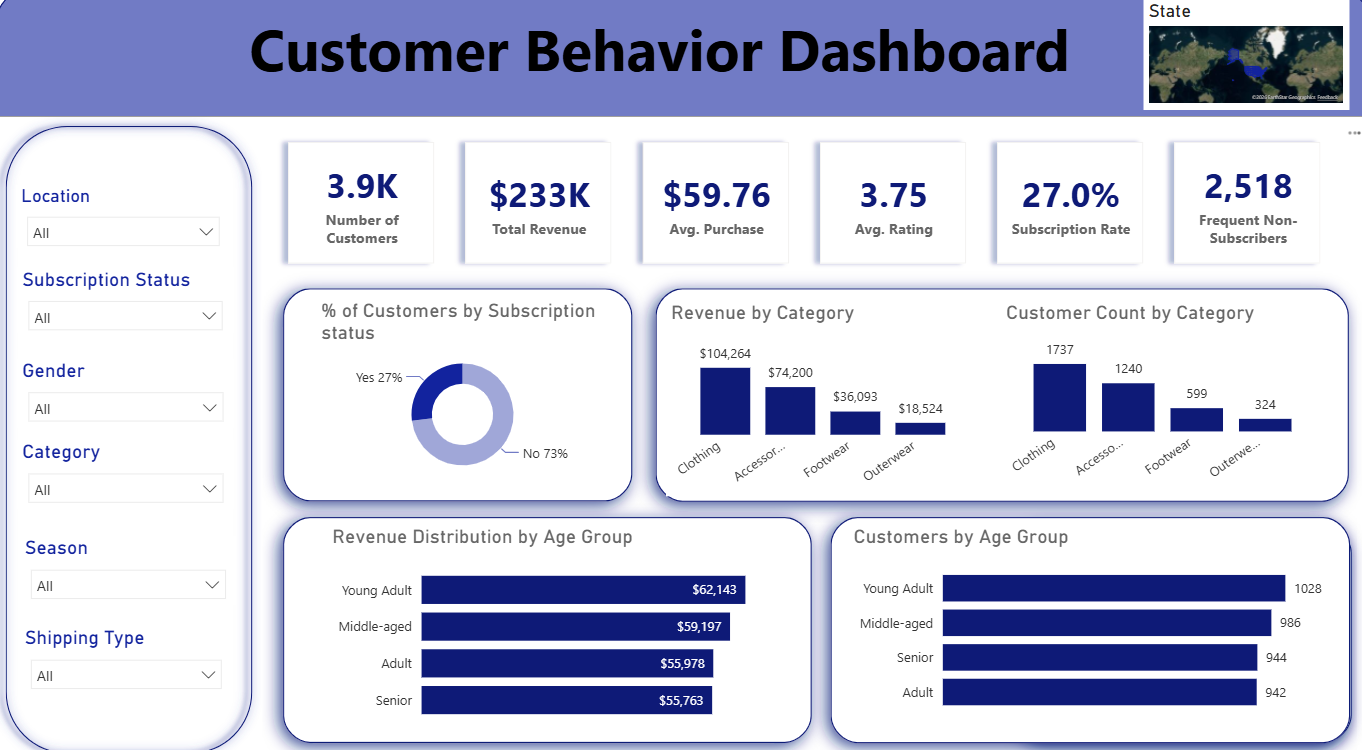

This screenshot's page, from the dashboard's own definition file:
{"tool":"powerbi","page":{"name":"Page 1","canvas":[1280,720],"ordinal":0},"visuals":[{"type":"cardVisual","fields":{"Data":["Query1.Number of Customers","Query1.Average Purchase Amount","Query1.Average Review Rating"]},"box":[276.8,117.3,1002.5,179.6],"z":0},{"type":"shape","box":[0,0,1280,118.2],"z":1000},{"type":"textbox","box":[204,12.4,828.5,89.6],"z":2000},{"type":"shape","box":[278.6,258.4,331.7,236.4],"z":3000},{"type":"donutChart","title":"% of Customers by Subscription status","fields":{"Category":["Query1.subscription_status"],"Y":["Sum(Query1.customer_id)"]},"box":[307.9,289.6,273.1,174.1],"z":4000},{"type":"shape","box":[593.8,258.4,350.1,238.3],"z":5000},{"type":"shape","box":[931.1,258.4,348.2,240.1],"z":6000},{"type":"shape","box":[0,117.3,278.6,603],"z":7000},{"type":"clusteredColumnChart","title":"Revenue by Category","fields":{"Y":["Sum(Query1.purchase_amount)"],"Category":["Query1.category"]},"box":[623.1,289.6,291.4,181.4],"z":8000},{"type":"clusteredColumnChart","title":"Customer Count by Category","fields":{"Category":["Query1.category"],"Y":["Query1.Number of Customers"]},"box":[964,289.6,287.7,181.4],"z":9000},{"type":"advancedSlicerVisual","title":"Subscription Status","fields":{"Values":["Query1.subscription_status"]},"box":[27.5,165,223.6,93.5],"z":10000},{"type":"advancedSlicerVisual","title":"Category","fields":{"Values":["Query1.category"]},"box":[20.2,359.2,240.1,128.3],"z":11000},{"type":"listSlicer","title":"Shipping Type","fields":{"Values":["Query1.shipping_type"]},"box":[18.3,498.5,225.4,166.8],"z":12000},{"type":"shape","box":[276.8,471,502.2,249.3],"z":13000},{"type":"clusteredBarChart","title":"Revenue Distribution by Age Group","fields":{"Category":["Query1.age_group"],"Y":["Sum(Query1.purchase_amount)"]},"box":[307.9,498.5,432.5,196.1],"z":14000},{"type":"shape","box":[756.9,471,522.3,249.3],"z":15000},{"type":"clusteredBarChart","title":"Customer Base by Age Segment","fields":{"Category":["Query1.age_group"],"Y":["Sum(Query1.customer_id)"]},"box":[793.6,498.5,445.4,203.4],"z":16000},{"type":"advancedSlicerVisual","title":"Category","fields":{"Values":["Query1.gender"]},"box":[20.2,265.8,223.6,77],"z":17000}]}

Visuals, with their boxes in screenshot pixels (x1, y1, x2, y2), scaled from the page's 1280x720 canvas onto the 1362x750 screenshot:
cardVisual - Query1.Number of Customers x Query1.Average Purchase Amount: BBox(295, 122, 1361, 309)
shape: BBox(0, 0, 1361, 123)
textbox: BBox(217, 13, 1099, 106)
shape: BBox(296, 269, 649, 515)
"% of Customers by Subscription status" donutChart: BBox(328, 302, 618, 483)
shape: BBox(632, 269, 1004, 517)
shape: BBox(991, 269, 1361, 519)
shape: BBox(0, 122, 296, 749)
"Revenue by Category" clusteredColumnChart: BBox(663, 302, 973, 491)
"Customer Count by Category" clusteredColumnChart: BBox(1026, 302, 1332, 491)
"Subscription Status" advancedSlicerVisual: BBox(29, 172, 267, 269)
"Category" advancedSlicerVisual: BBox(21, 374, 277, 508)
"Shipping Type" listSlicer: BBox(19, 519, 259, 693)
shape: BBox(295, 491, 829, 749)
"Revenue Distribution by Age Group" clusteredBarChart: BBox(328, 519, 788, 724)
shape: BBox(805, 491, 1361, 749)
"Customer Base by Age Segment" clusteredBarChart: BBox(844, 519, 1318, 731)
"Category" advancedSlicerVisual: BBox(21, 277, 259, 357)
